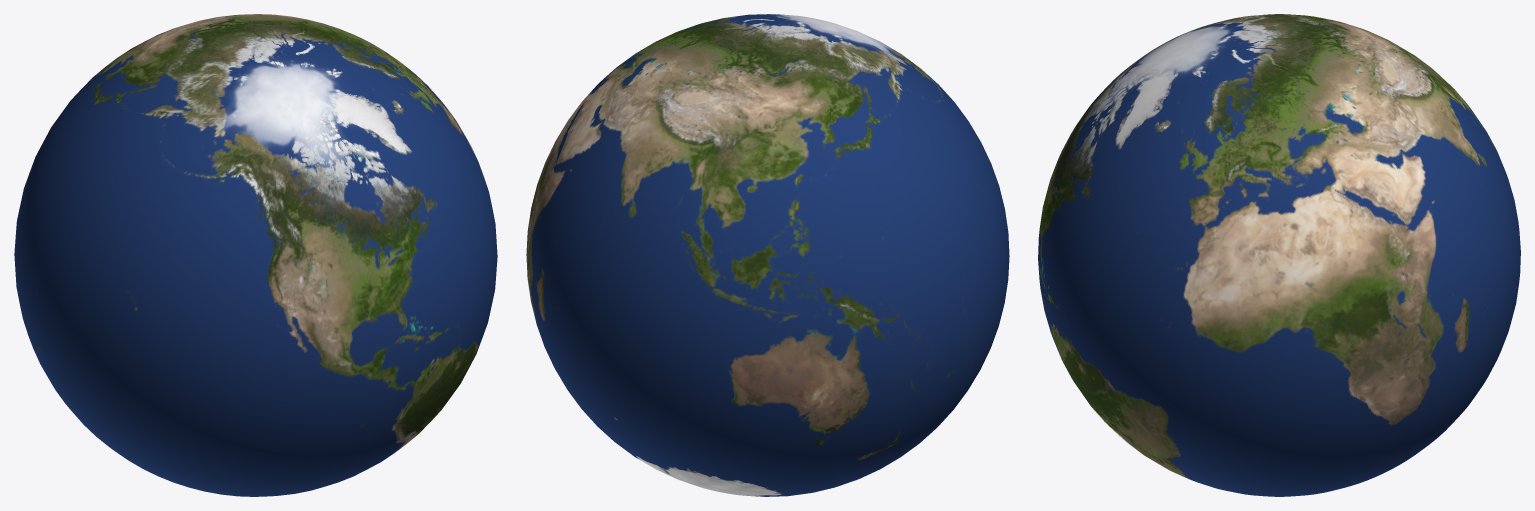
The model's file is earthgltf.gltf.
3 views of the same model, side by side, from view 1: azimuth 30°, elevation 25°; view 2: azimuth 150°, elevation 25°; view 3: azimuth 270°, elevation 25° (orthographic).
Parts seen in each view (by area): view 1: erath_8; view 2: erath_8; view 3: erath_8.
Boxes of the visible parts, x1=… form: erath_8: x1=14, y1=14, x2=497, y2=496; erath_8: x1=526, y1=14, x2=1009, y2=496; erath_8: x1=1038, y1=14, x2=1520, y2=496.
Bounding box in the file's own units: 2 × 2 × 2.
1 material, 1 textured.
